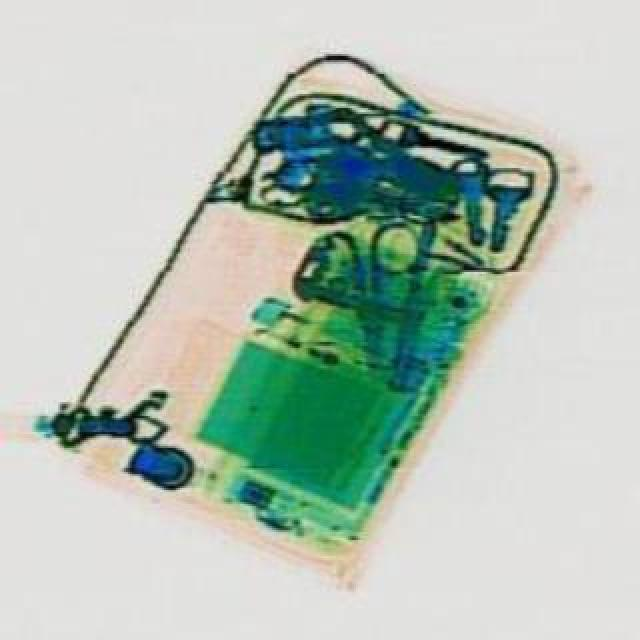pliers: (302, 216, 432, 370)
